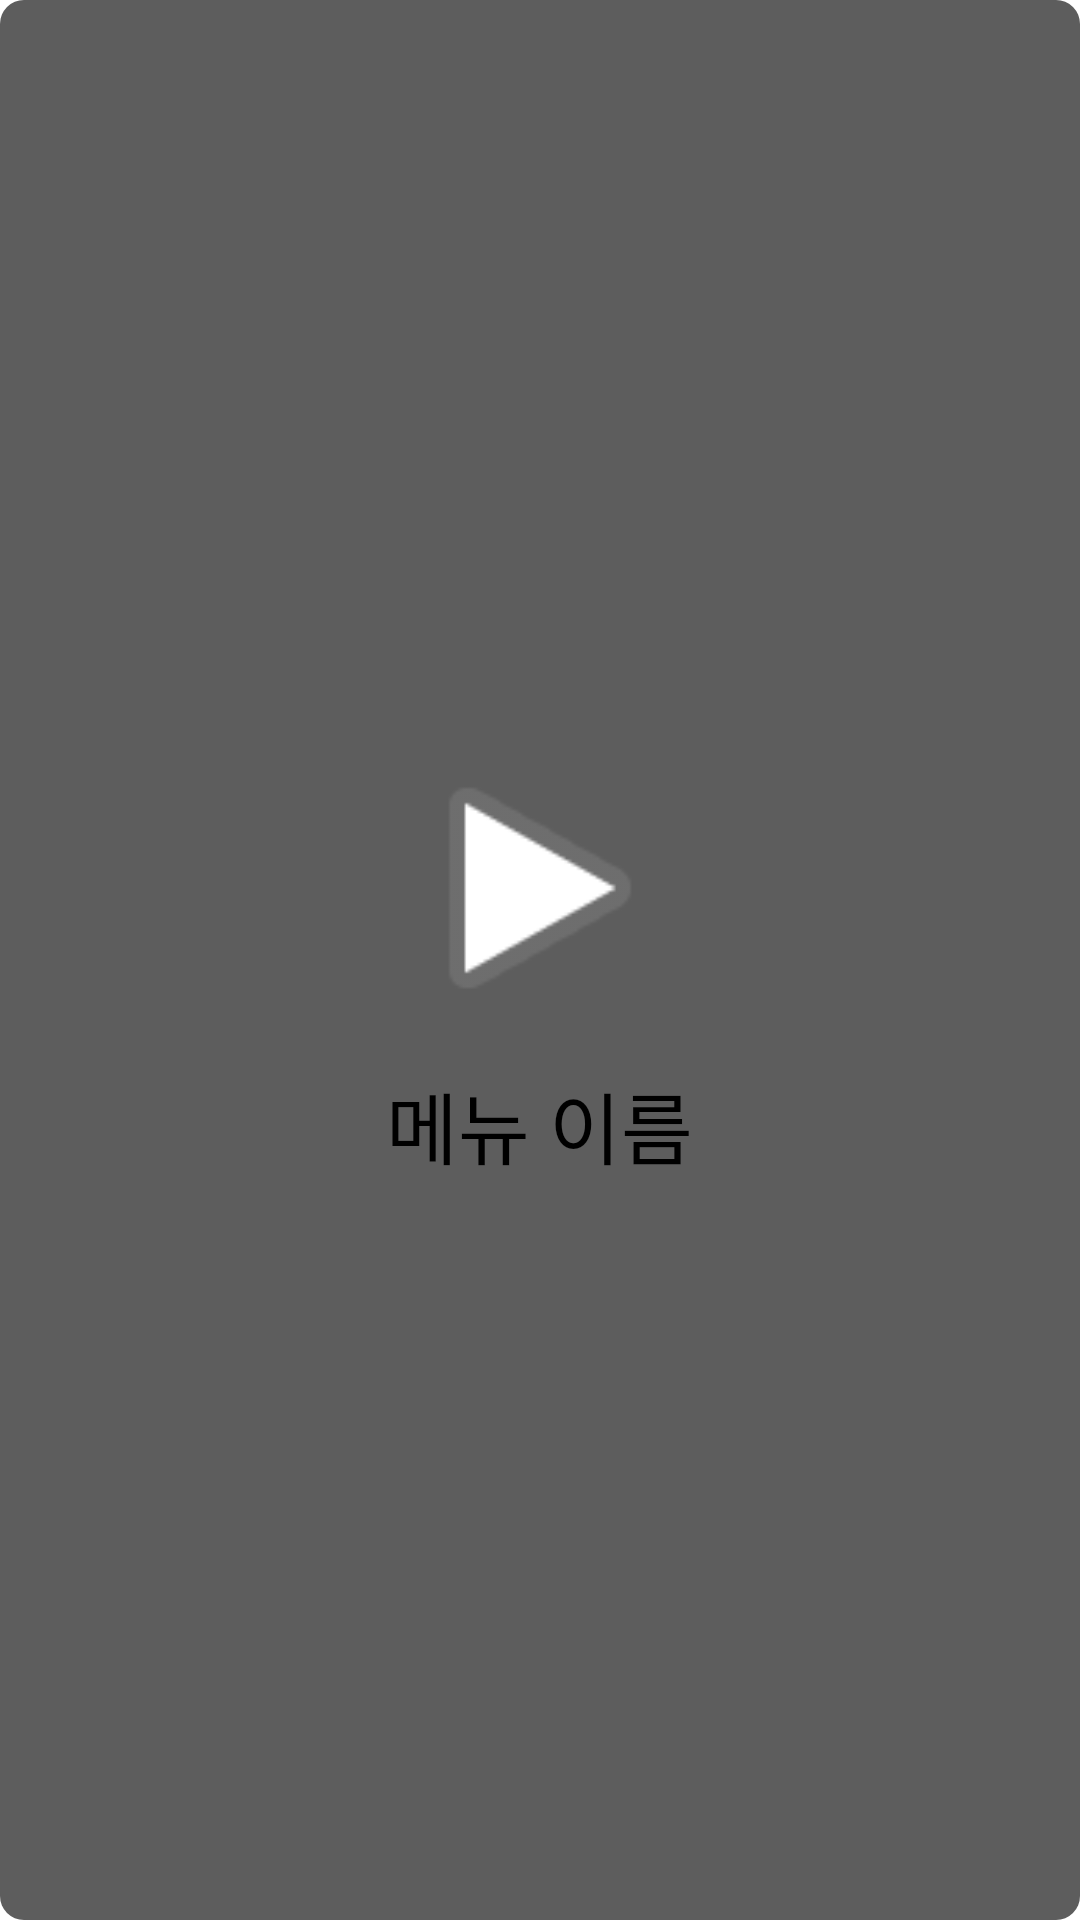

Icon click points for this 1080 x 1920 phone screenshot, format (x,y):
play: (540,888)
